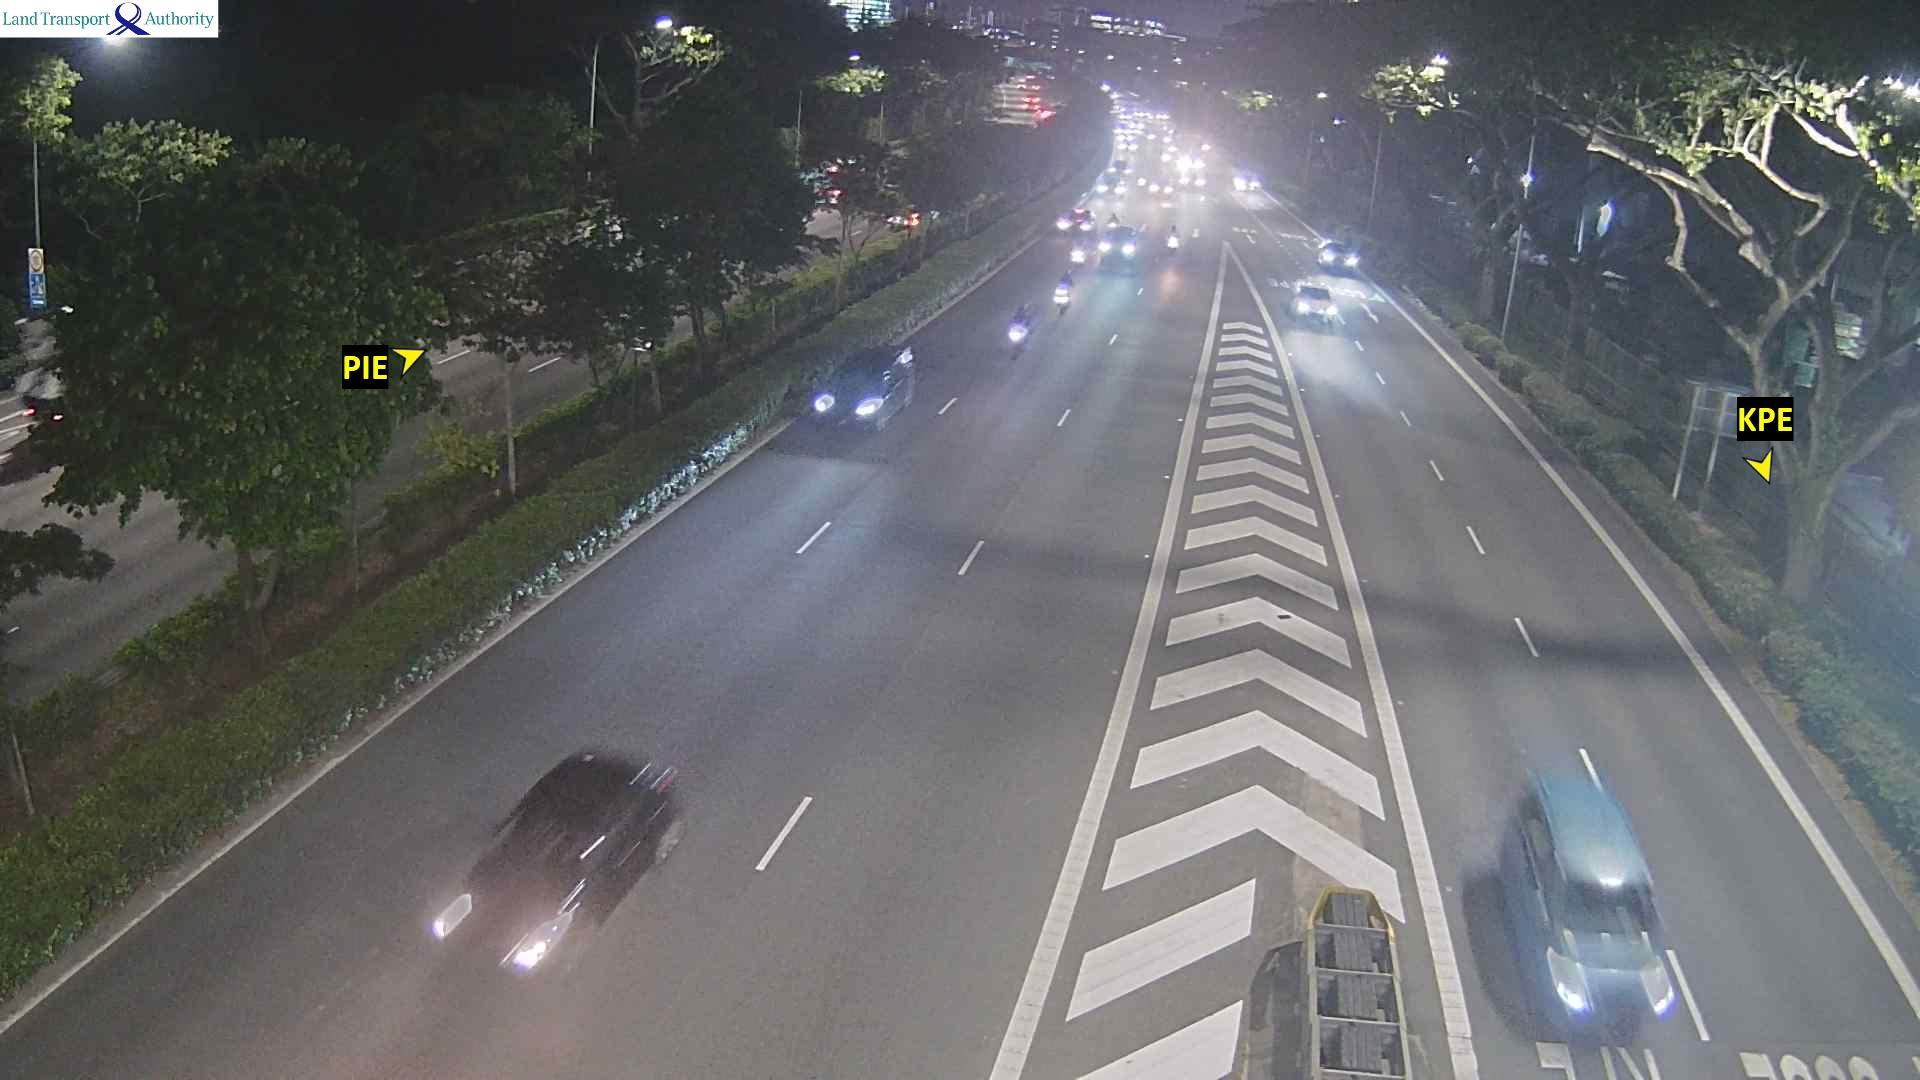incoming: (406, 823, 601, 987), (1531, 873, 1693, 1046), (808, 363, 900, 445), (1293, 287, 1338, 325), (1323, 239, 1367, 273), (1097, 233, 1136, 267), (1049, 208, 1095, 233), (1006, 326, 1031, 361), (1093, 175, 1128, 200), (1055, 286, 1074, 322), (1236, 173, 1264, 193), (1069, 249, 1090, 271), (1109, 161, 1135, 175), (1163, 236, 1183, 252)
